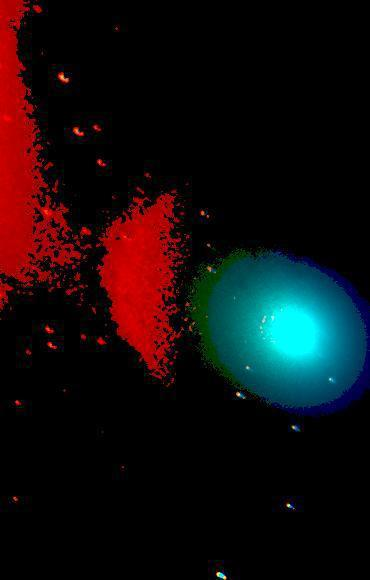star: (215, 284, 245, 314)
